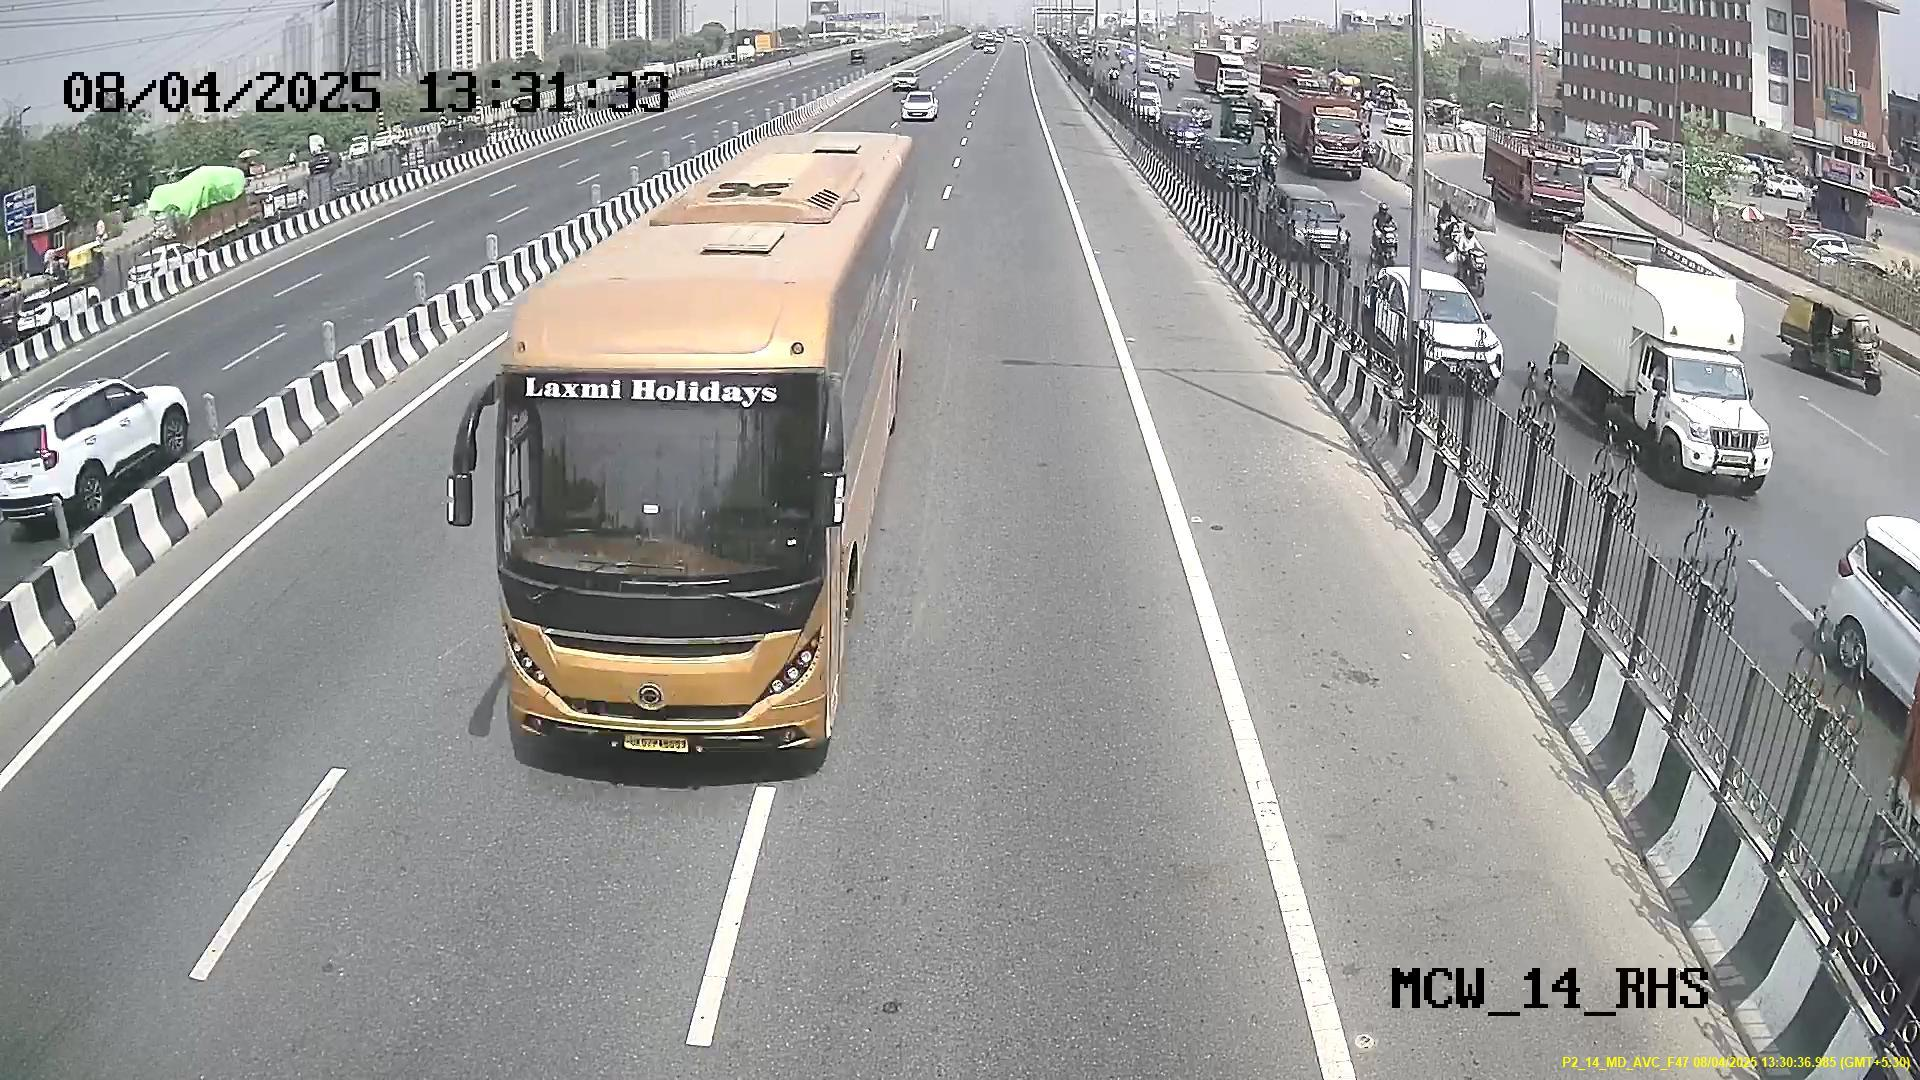bus: (463, 305, 860, 775)
